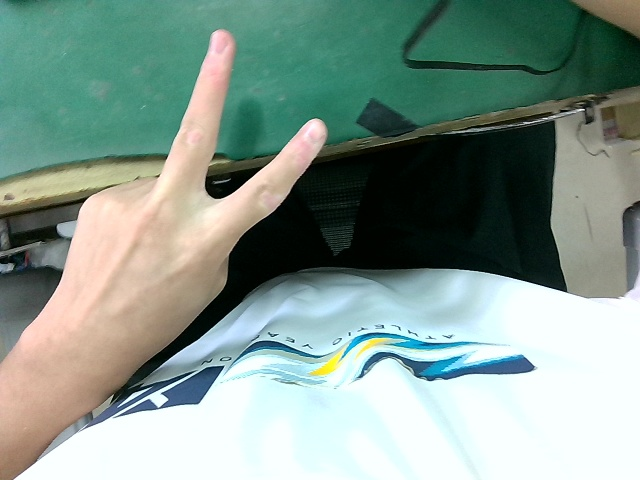scissor: (55, 21, 330, 363)
